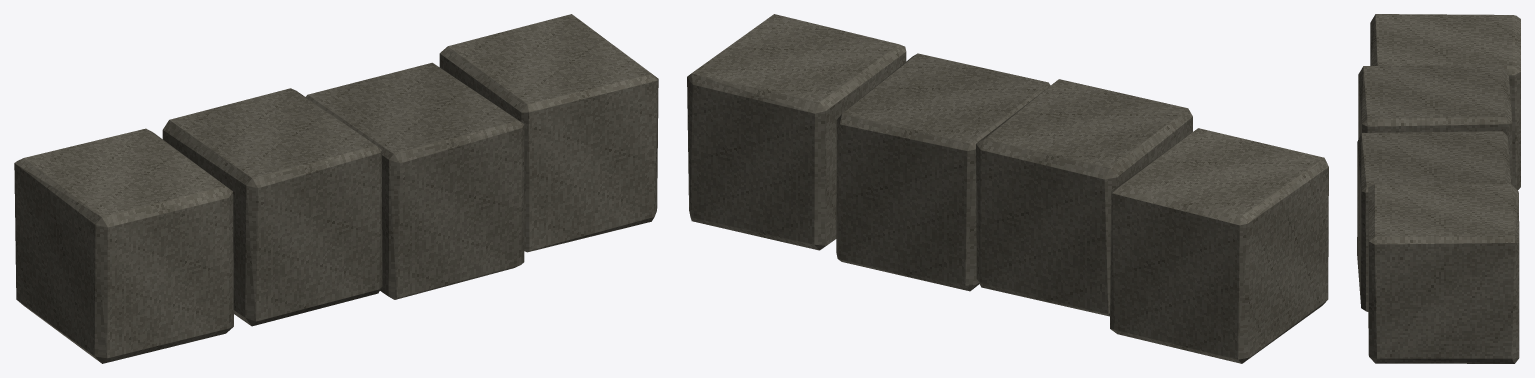
Rendered from env_ruin_pillars_11_segmented_fallen.glb.
The picture shows the model from 3 angles, left to right: view 1: azimuth 30°, elevation 25°; view 2: azimuth 150°, elevation 25°; view 3: azimuth 270°, elevation 25°; orthographic projection. The views are drawn at different scales.
Size of the model in its own units: 1.59 by 0.425 by 0.4675.
Materials: 1 (1 with a texture image).
